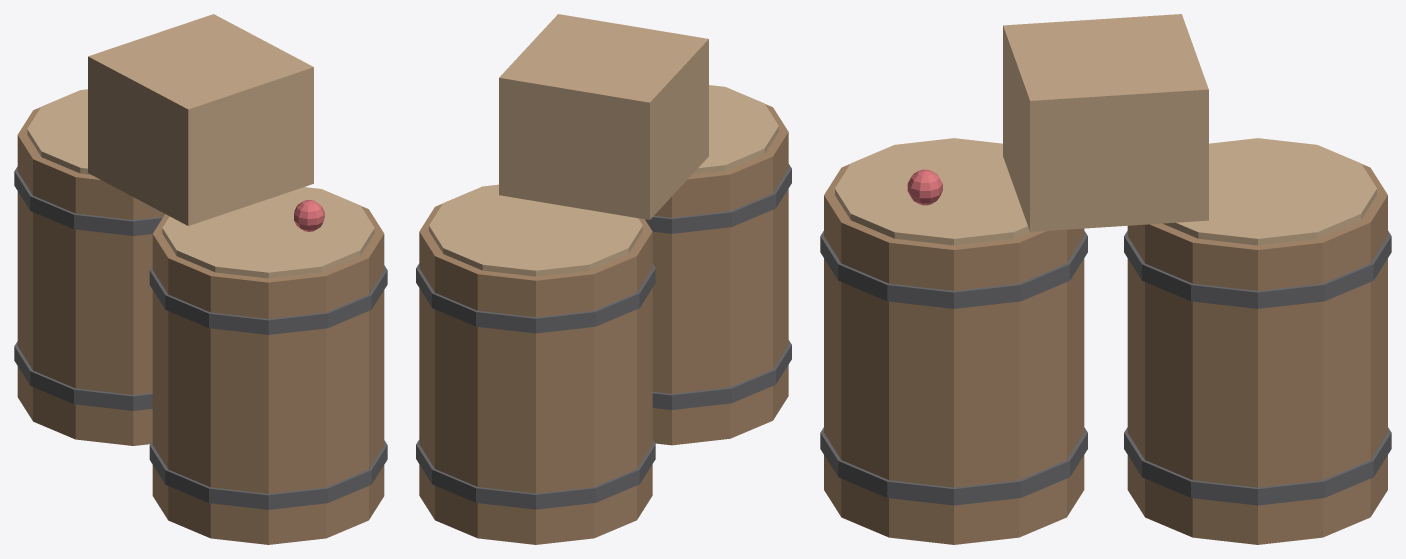
Rendered from prop_barrels.glb.
3 renders of one model, left to right at view 1: azimuth 30°, elevation 25°; view 2: azimuth 150°, elevation 25°; view 3: azimuth 270°, elevation 25°, orthographic. The views are drawn at different scales.
Visible parts, largest first — view 1: Barrel.0, Crate, Lid.0, Hoop.0.0, Apple; view 2: Barrel.0, Crate, Lid.0, Hoop.0.0; view 3: Barrel.0, Crate, Lid.0, Hoop.0.0, Apple.
Part boxes in pixels (<box>): Barrel.0: <box>17,107,384,544</box>; Crate: <box>88,14,313,225</box>; Lid.0: <box>27,89,374,278</box>; Hoop.0.0: <box>14,166,387,509</box>; Apple: <box>294,200,324,231</box>; Barrel.0: <box>419,104,788,544</box>; Crate: <box>499,14,708,219</box>; Lid.0: <box>429,85,778,276</box>; Hoop.0.0: <box>416,164,791,509</box>; Barrel.0: <box>824,164,1387,544</box>; Crate: <box>1003,14,1208,231</box>; Lid.0: <box>835,138,1376,245</box>; Hoop.0.0: <box>820,231,1391,505</box>; Apple: <box>907,169,942,205</box>.
Size of the model in its own units: 0.74 by 1.32 by 1.58.
